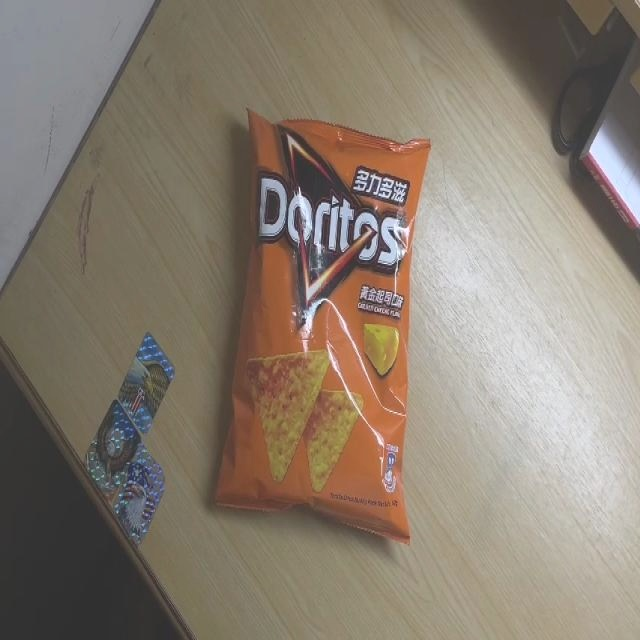Doritos: (211, 109, 430, 547)
